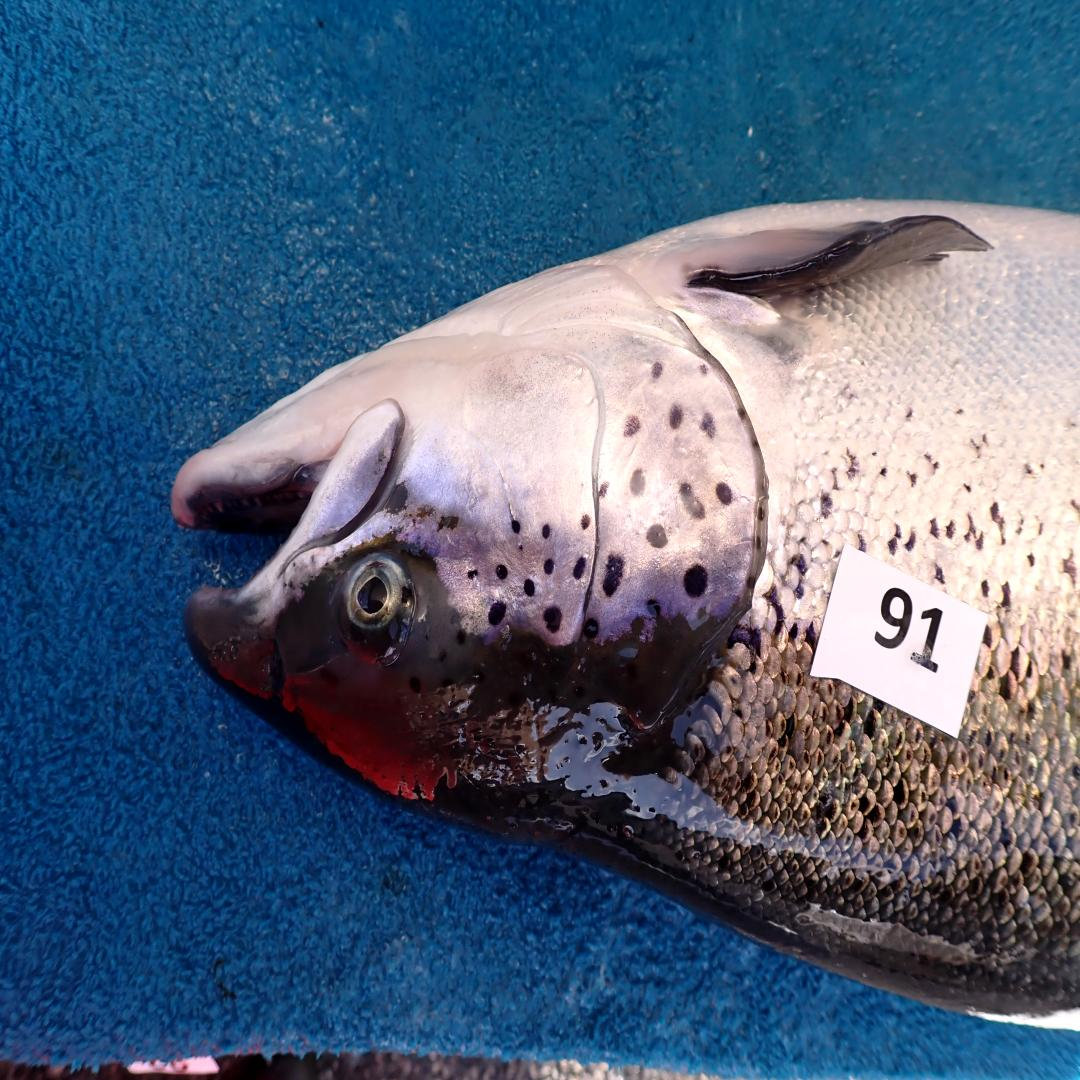roi: (403, 251, 762, 646)
